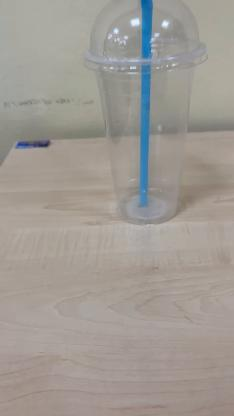Plastic Cup: (84, 0, 208, 224)
